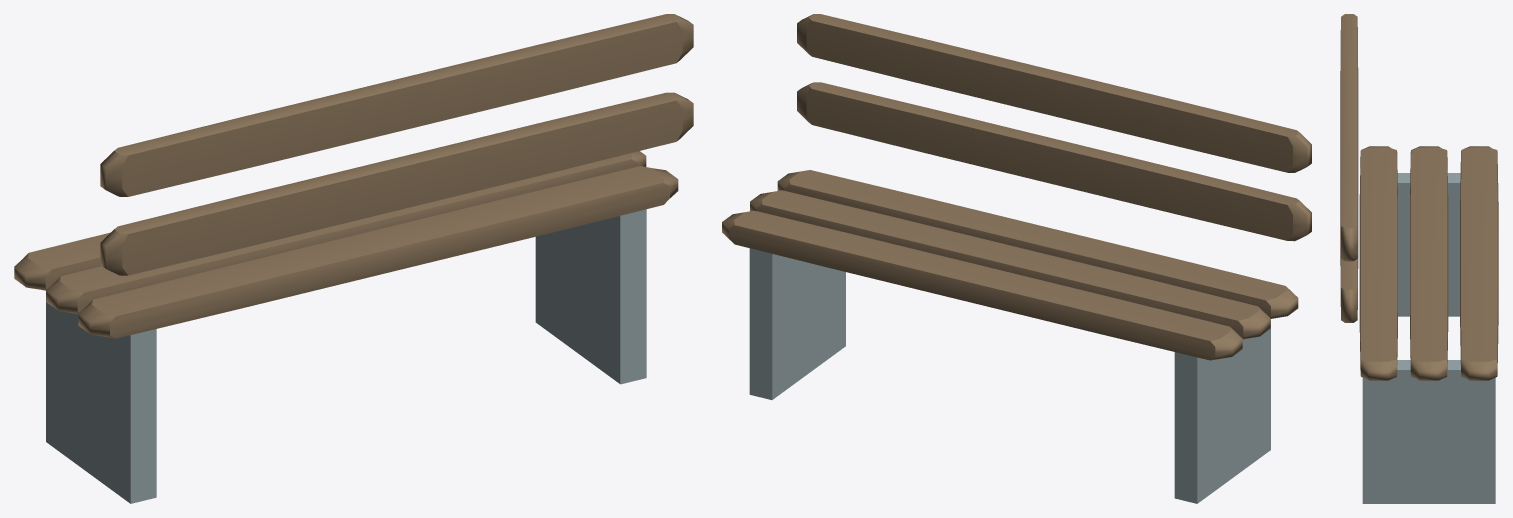
Rendered from bench.glb.
3 renders of one model, left to right at view 1: azimuth 30°, elevation 25°; view 2: azimuth 150°, elevation 25°; view 3: azimuth 270°, elevation 25°, orthographic. The views are drawn at different scales.
Parts seen in each view (by area): view 1: static_wood, static_steel; view 2: static_wood, static_steel; view 3: static_wood, static_steel.
Part boxes in pixels (<box>): static_wood: <box>14,14,693,338</box>; static_steel: <box>46,209,646,503</box>; static_wood: <box>722,14,1311,360</box>; static_steel: <box>749,248,1270,503</box>; static_wood: <box>1340,14,1498,380</box>; static_steel: <box>1362,173,1495,503</box>.
Size of the model in its own units: 1.8 by 1.07 by 0.535.
